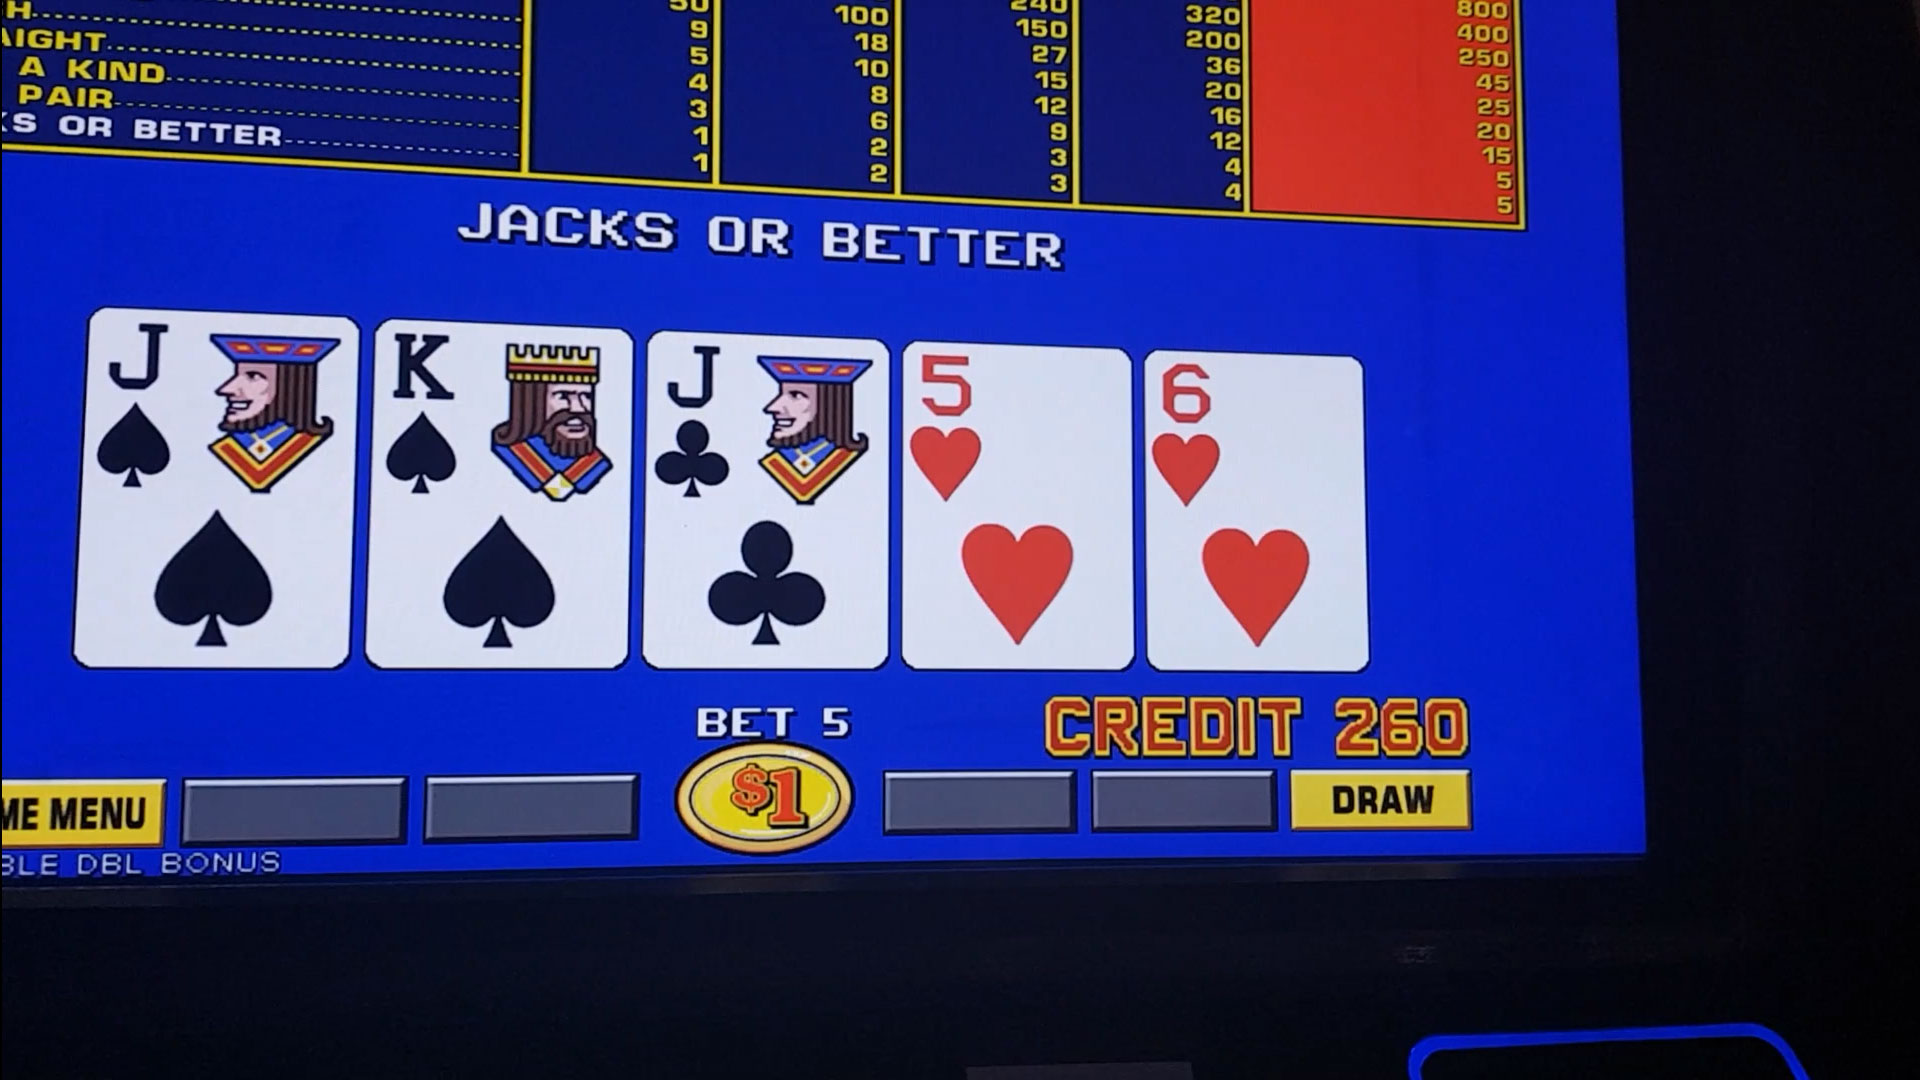CJ: (653, 348, 884, 508)
H5: (909, 357, 1127, 516)
H6: (1149, 363, 1356, 520)
SJ: (88, 319, 348, 501)
SK: (378, 331, 628, 498)
